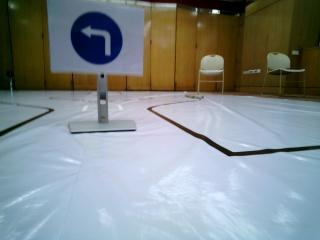left: (56, 6, 134, 71)
